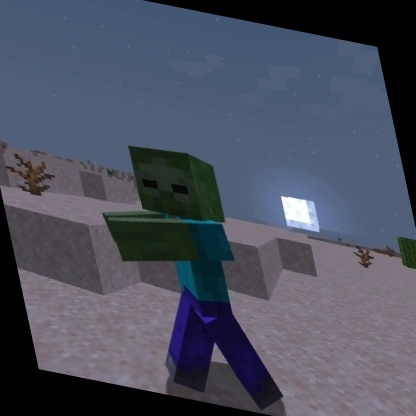zombie: (79, 128, 294, 416)
